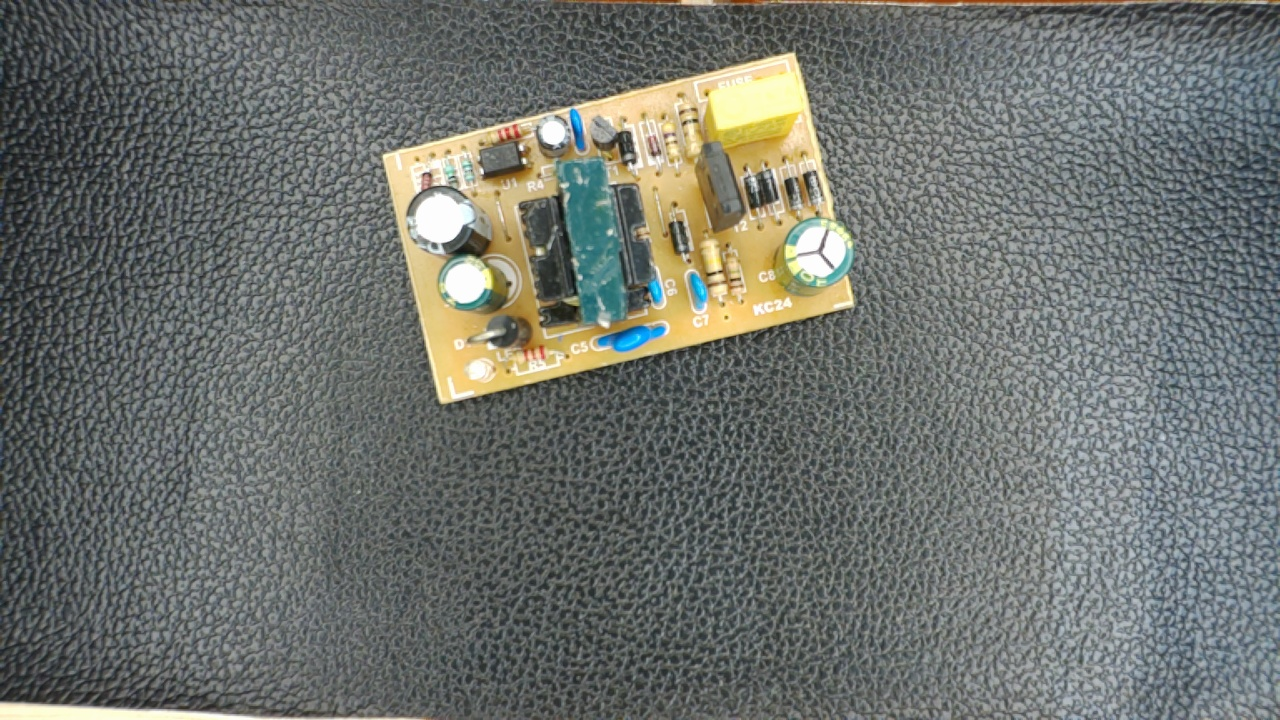hv_capacitor: (771, 218, 852, 299)
mov: (587, 320, 668, 357)
optocoupler: (468, 138, 533, 179)
